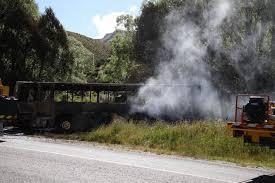smoke: (137, 3, 272, 122)
